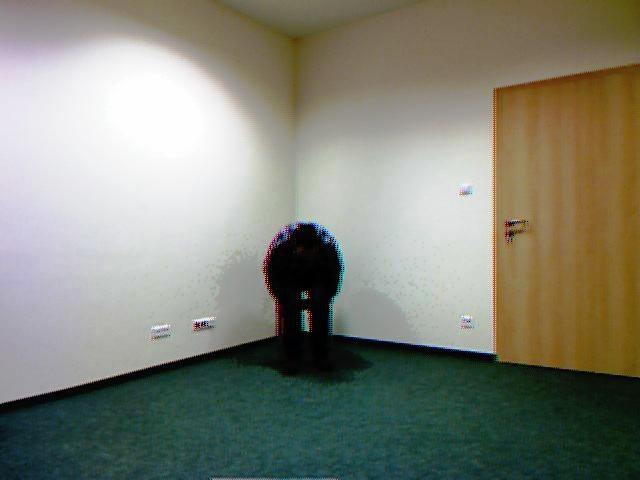bending: (258, 208, 358, 380)
